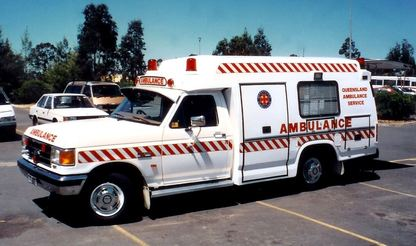ambulance: (17, 55, 382, 223)
